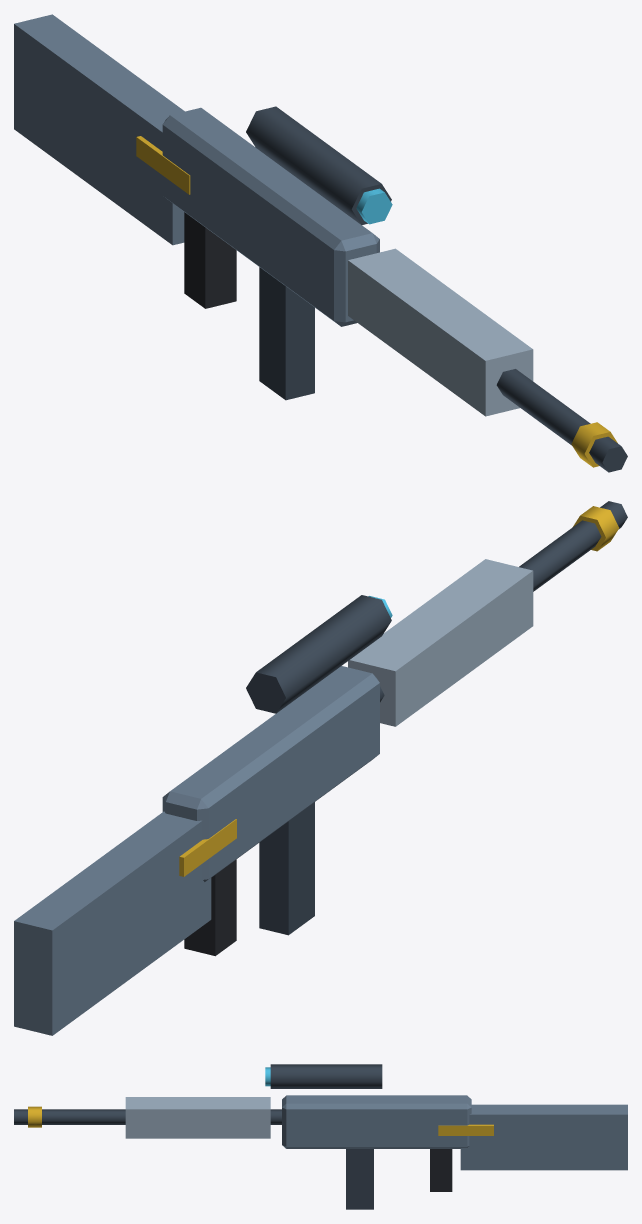
3 views of the same model, one above another, from view 1: azimuth 30°, elevation 25°; view 2: azimuth 150°, elevation 25°; view 3: azimuth 270°, elevation 25° (orthographic). The views are drawn at different scales.
Parts seen in each view (by area): view 1: dweller_weapon_rifle; view 2: dweller_weapon_rifle; view 3: dweller_weapon_rifle.
Part boxes in pixels (x1,y1,x2,y2): dweller_weapon_rifle: (14, 14, 627, 472); dweller_weapon_rifle: (14, 501, 627, 1035); dweller_weapon_rifle: (14, 1064, 627, 1209).
Size of the model in its own units: 0.052 by 0.2741 by 1.1.
